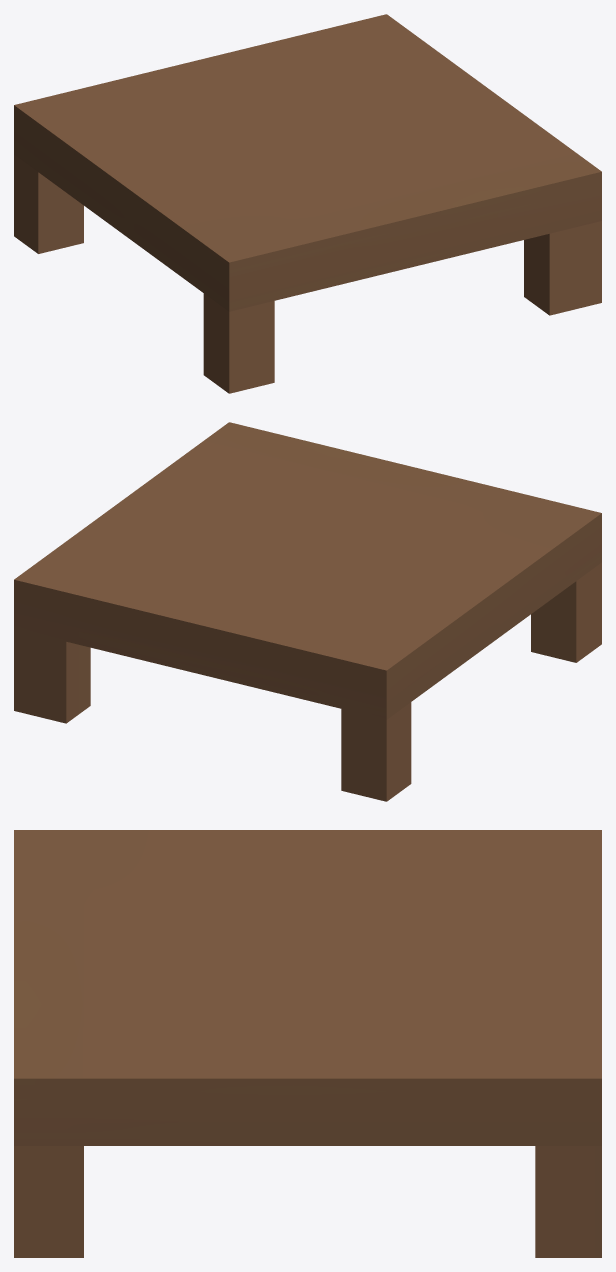
Rendered from table.fbx.
3 views of the same model, one above another, from view 1: azimuth 30°, elevation 25°; view 2: azimuth 150°, elevation 25°; view 3: azimuth 270°, elevation 25° (orthographic). The views are drawn at different scales.
Parts seen in each view (by area): view 1: table; view 2: table; view 3: table.
Boxes of the visible parts, bbox=[...] form: table: bbox=[14, 14, 601, 393]; table: bbox=[14, 422, 601, 801]; table: bbox=[14, 830, 601, 1257].
Bounding box in the file's own units: 229 × 77.17 × 229.
